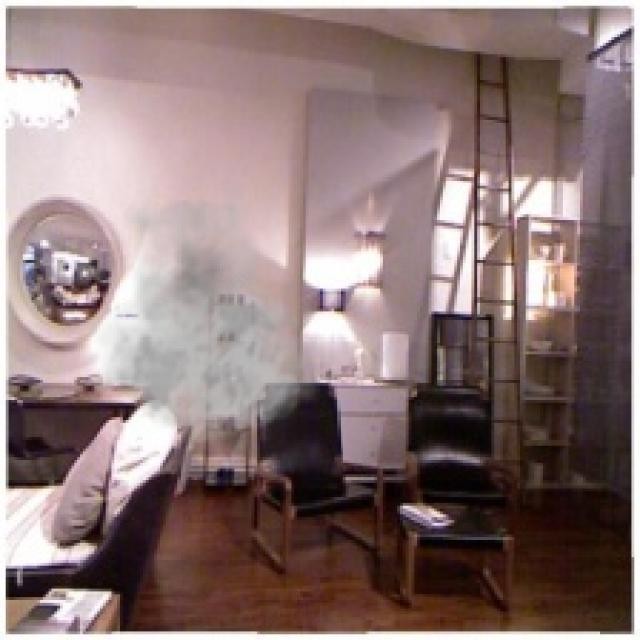Smoke: (83, 180, 320, 446)
